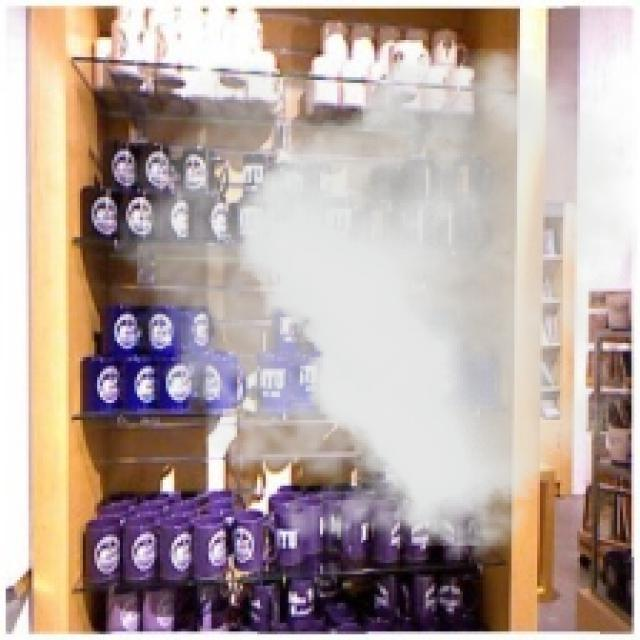Smoke: (97, 49, 637, 578)
